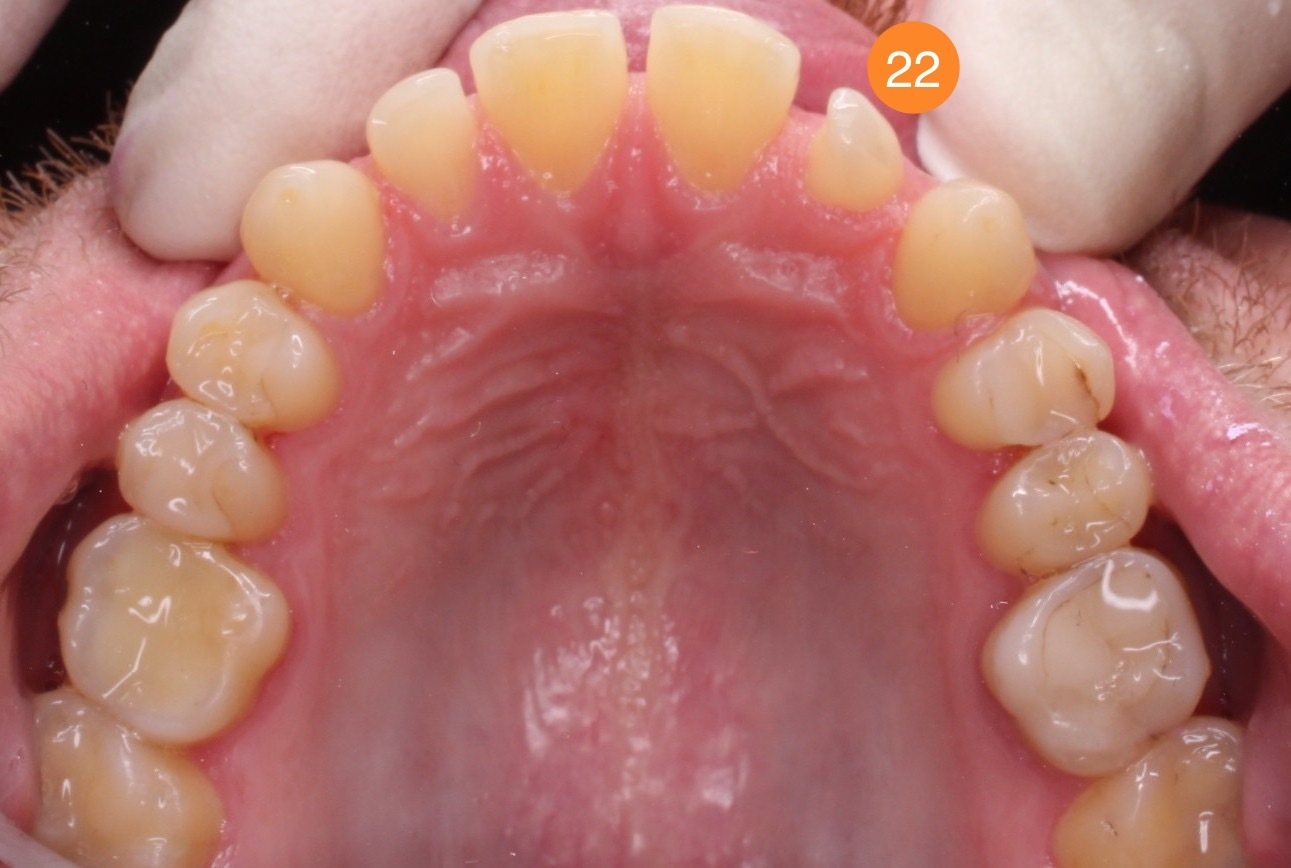UL1BC_decay: (923, 306, 1131, 457)
UL1M_decay: (980, 552, 1206, 783)
UL2BC_decay: (967, 431, 1156, 578)
UL2M_decay: (1055, 710, 1243, 862)
ULCI_healthy: (644, 2, 782, 205)
ULC_healthy: (897, 167, 1039, 328)
ULLI_healthy: (812, 73, 904, 213)
UR1BC_healthy: (155, 281, 332, 432)
UR1M_healthy: (53, 509, 286, 753)
UR2BC_healthy: (108, 400, 284, 546)
UR2M_healthy: (25, 686, 234, 868)
URCI_healthy: (475, 7, 625, 196)
URC_healthy: (243, 161, 386, 304)
URLI_healthy: (365, 62, 486, 223)
